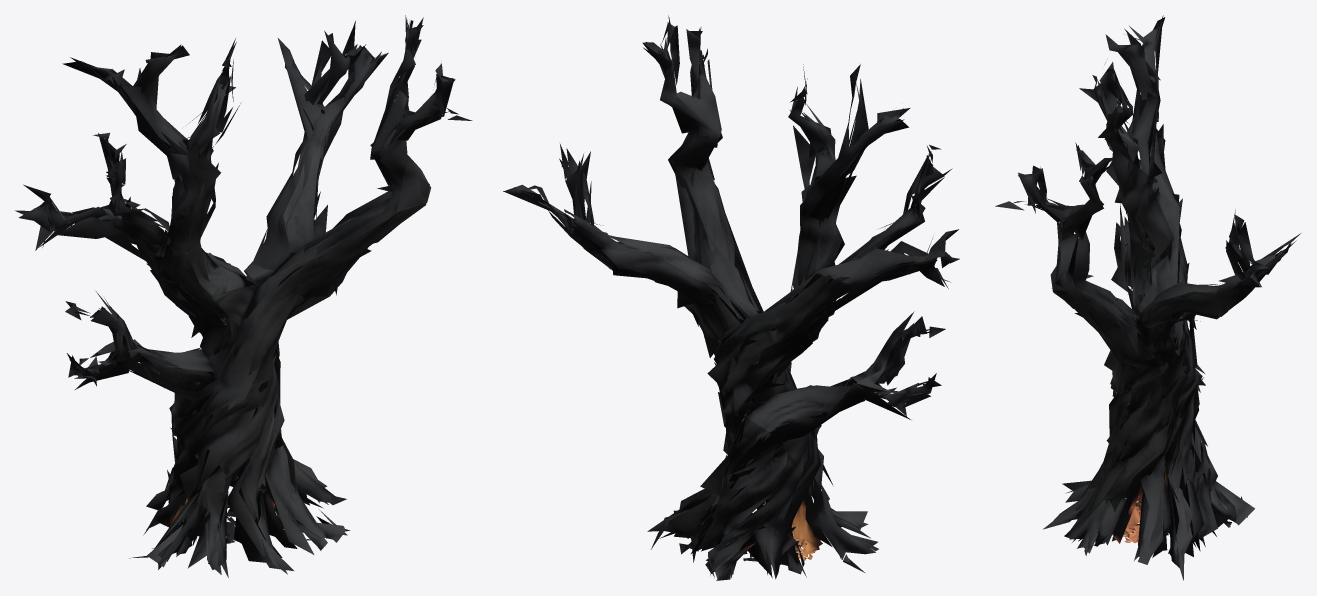
The model's file is biome_charred.glb.
3 views of the same model, side by side, from view 1: azimuth 30°, elevation 25°; view 2: azimuth 150°, elevation 25°; view 3: azimuth 270°, elevation 25° (orthographic). The views are drawn at different scales.
Visible parts, largest first — view 1: Mesh_0; view 2: Mesh_0; view 3: Mesh_0.
Part boxes in pixels (x1,y1,x2,y2): Mesh_0: [15, 15, 472, 577]; Mesh_0: [503, 15, 959, 580]; Mesh_0: [995, 15, 1300, 580].
Bounding box in the file's own units: 6.57 × 7.75 × 4.6.
1 material, 1 textured.
